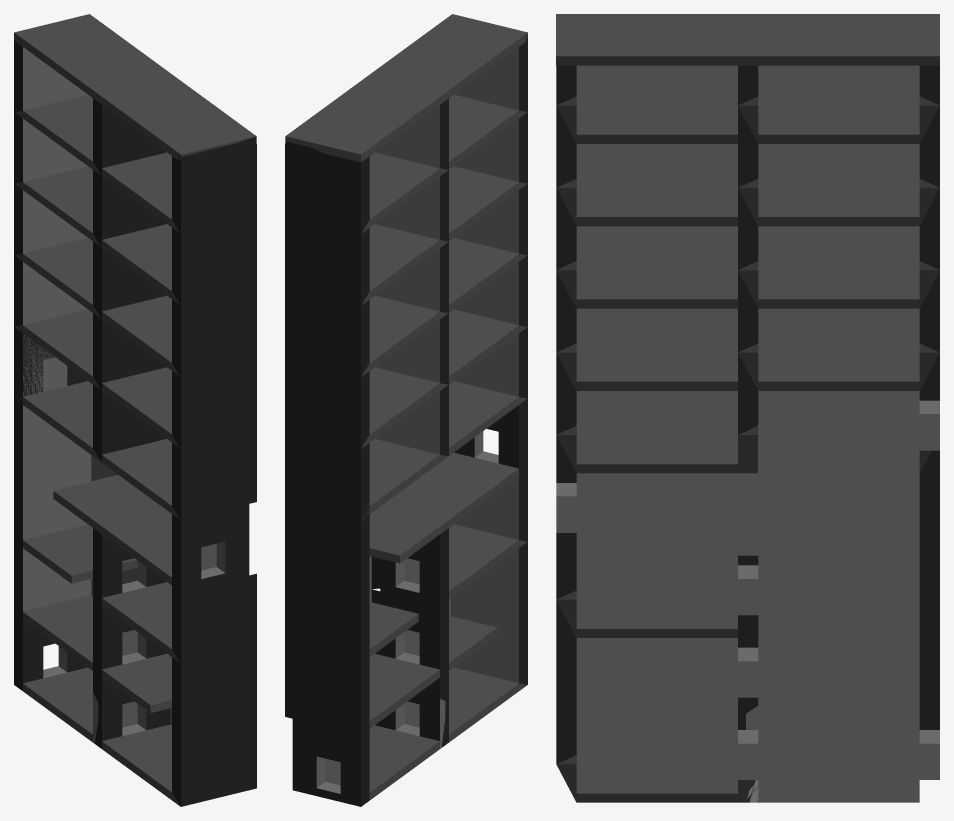
Rendered from Level1.fbx.
The picture shows the model from 3 angles, left to right: view 1: azimuth 30°, elevation 25°; view 2: azimuth 150°, elevation 25°; view 3: azimuth 270°, elevation 25°; orthographic projection. The views are drawn at different scales.
Visible parts, largest first — view 1: Level_1; view 2: Level_1; view 3: Level_1.
Part boxes in pixels (x1=…): Level_1: x1=14, y1=14, x2=256, y2=806; Level_1: x1=285, y1=14, x2=527, y2=806; Level_1: x1=556, y1=14, x2=939, y2=802.
Bounding box in the file's own units: 10 × 82 × 38.03.
